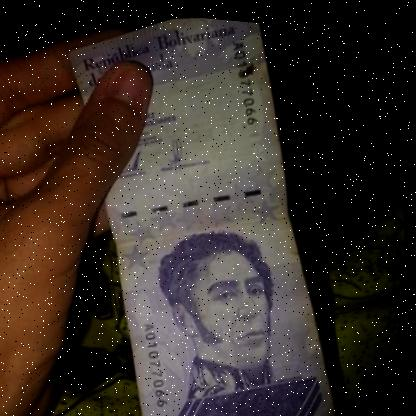ten-front-vef: (80, 7, 365, 416)
